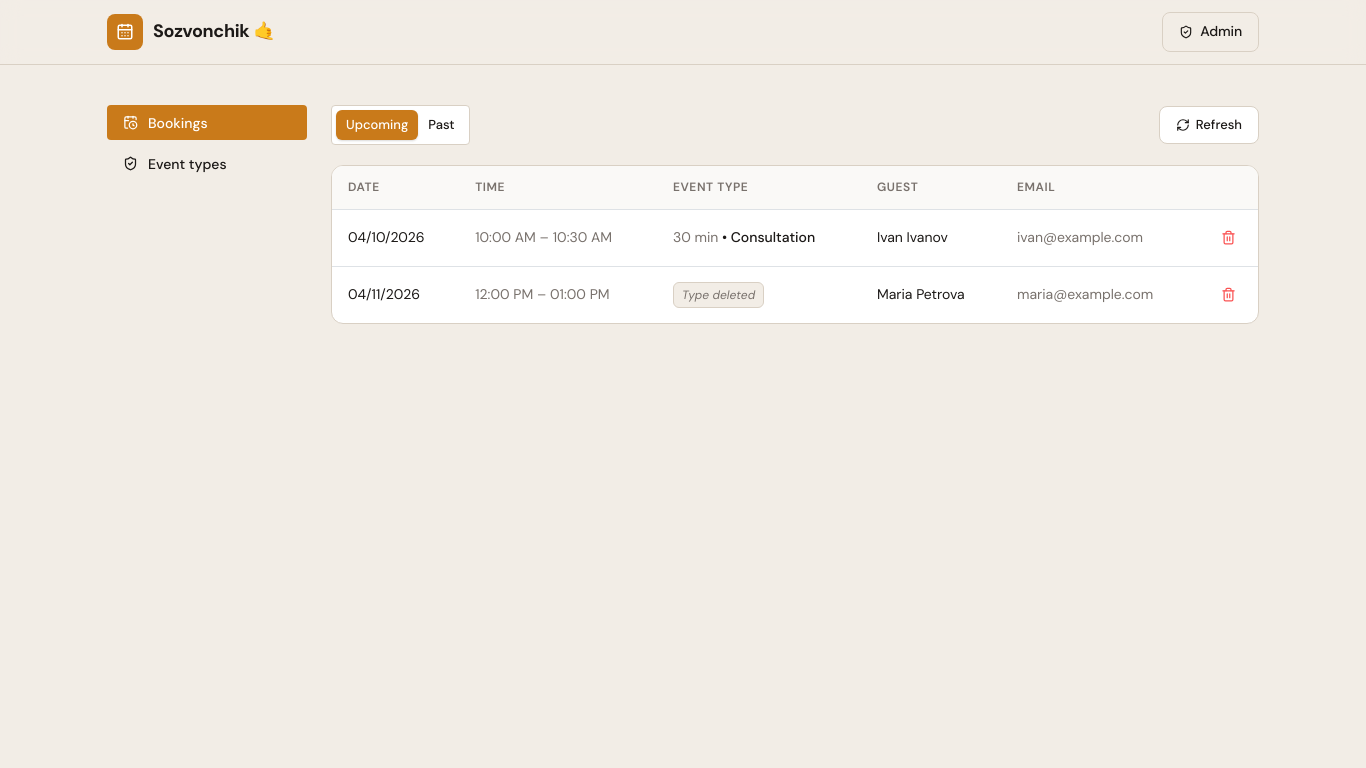
AdminPage — upcoming meetings section › clicking delete icon opens confirmation modal
Step 1. Click the button titled "Delete booking" in the row of "04/10/2026" → (1228, 238), box x1=1214 y1=224 x2=1242 y2=252
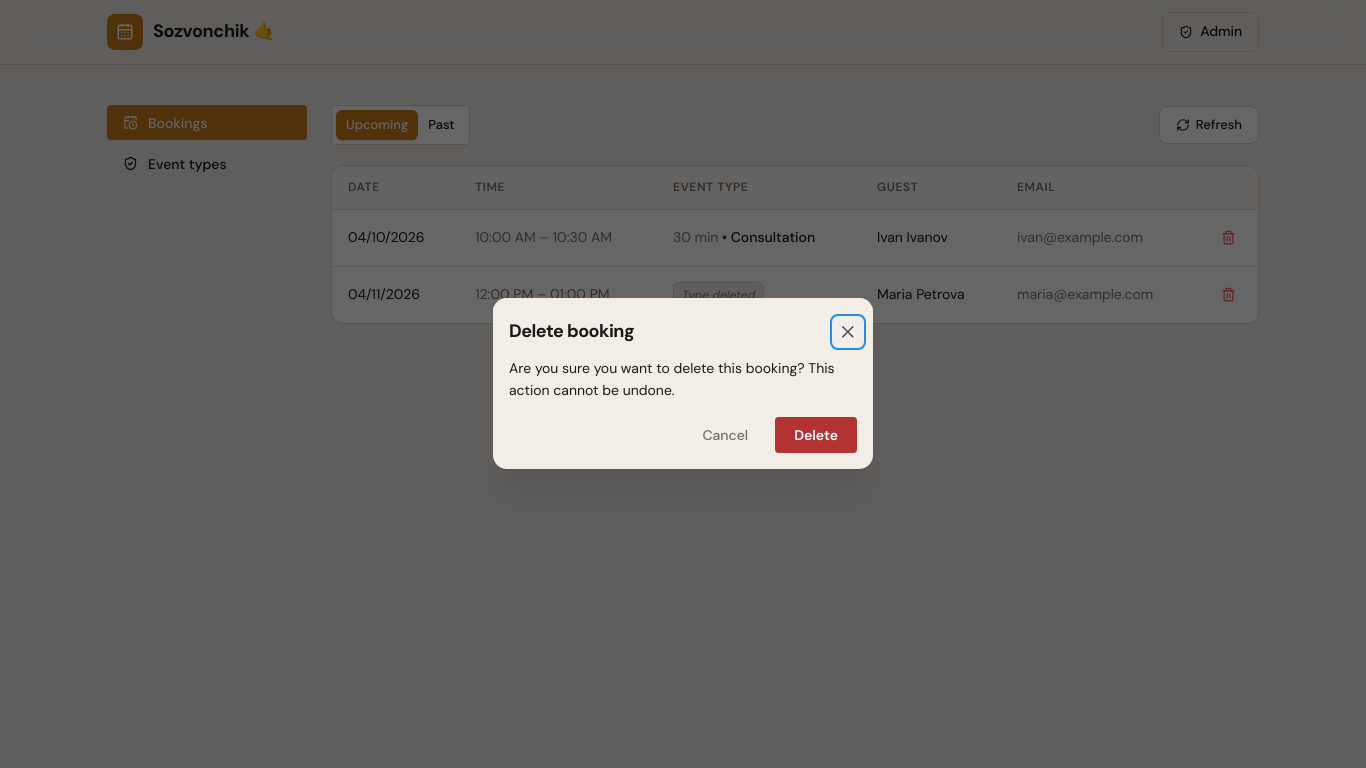
Result: the text "Delete booking" is shown at x1=509 y1=318 x2=634 y2=346
Result: the text "Are you sure" is shown at x1=509 y1=359 x2=835 y2=399
